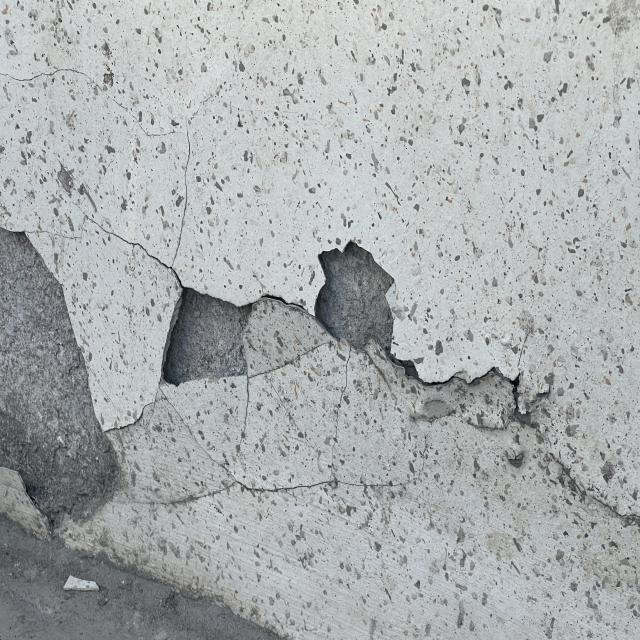crack: (4, 53, 218, 255)
spalling: (308, 218, 582, 457), (2, 210, 130, 550), (149, 247, 283, 423)
